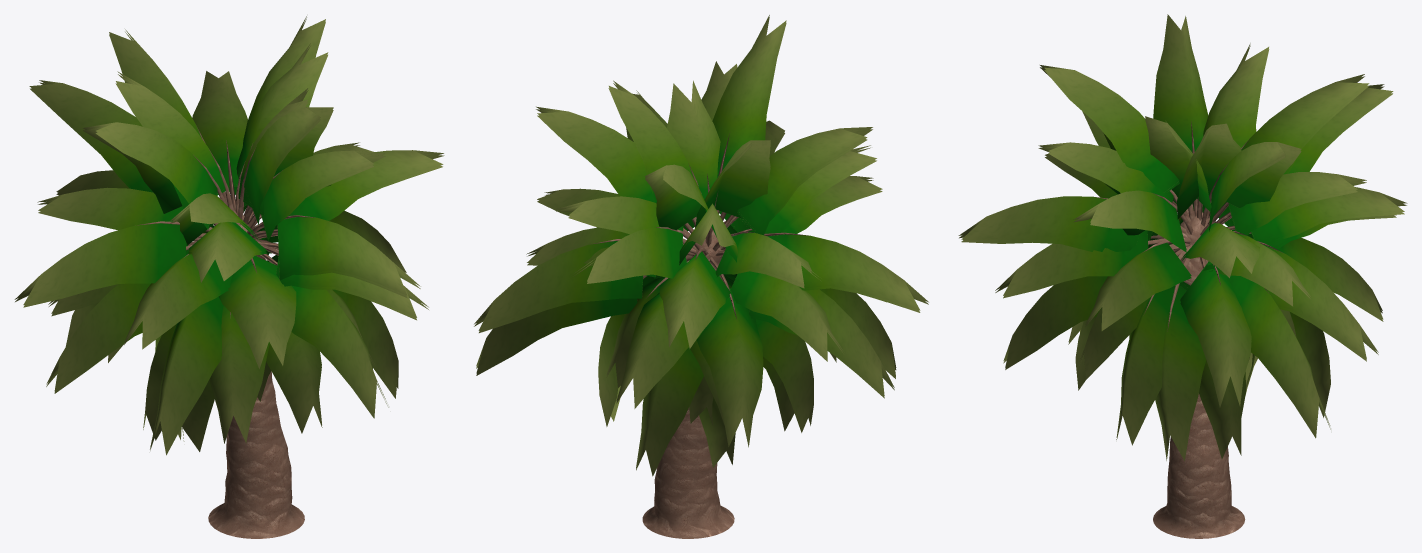
File: SM-Palm-03.FBX
3 views of the same model, side by side, from view 1: azimuth 30°, elevation 25°; view 2: azimuth 150°, elevation 25°; view 3: azimuth 270°, elevation 25° (orthographic). The views are drawn at different scales.
Visible parts, largest first — view 1: SM-Palm-03; view 2: SM-Palm-03; view 3: SM-Palm-03.
Part boxes in pixels (x1,y1,x2,y2): SM-Palm-03: [14, 16, 444, 538]; SM-Palm-03: [474, 15, 928, 538]; SM-Palm-03: [958, 14, 1407, 538].
Size of the model in its own units: 338 by 341 by 376.
2 materials, 2 textured.
